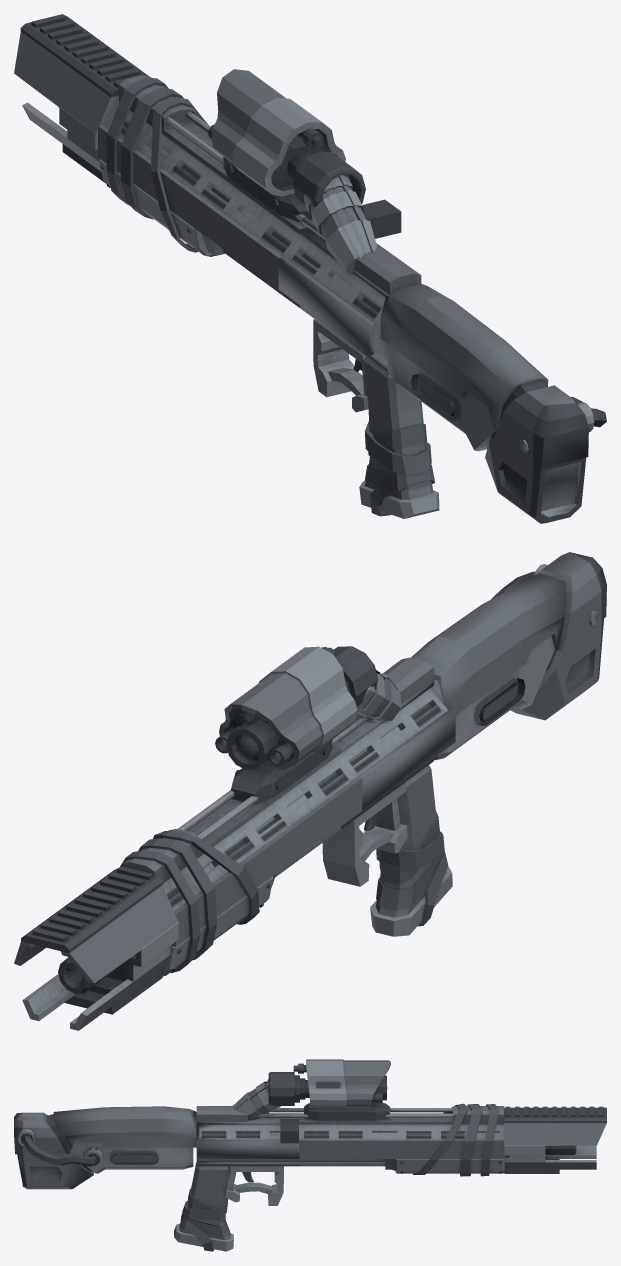
File: beam_pistol.glb
3 renders of one model, top to bottom at view 1: azimuth 30°, elevation 25°; view 2: azimuth 150°, elevation 25°; view 3: azimuth 270°, elevation 25°, orthographic. The views are drawn at different scales.
Visible parts, largest first — view 1: ReloadReceiver, beam_pistol, ReloadGrip, InsertedAmmo, ChargingHandle; view 2: ReloadReceiver, beam_pistol, ReloadGrip, InsertedAmmo; view 3: ReloadReceiver, beam_pistol, ReloadGrip, InsertedAmmo, ChargingHandle.
Part boxes in pixels (bbox=[...]): ReloadReceiver: bbox=[14, 14, 365, 307]; beam_pistol: bbox=[278, 217, 606, 523]; ReloadGrip: bbox=[313, 319, 439, 518]; InsertedAmmo: bbox=[303, 175, 377, 274]; ChargingHandle: bbox=[362, 199, 401, 238]; ReloadReceiver: bbox=[14, 646, 377, 1030]; beam_pistol: bbox=[332, 552, 606, 828]; ReloadGrip: bbox=[322, 765, 452, 936]; InsertedAmmo: bbox=[356, 669, 401, 723]; ReloadReceiver: bbox=[268, 1059, 606, 1176]; beam_pistol: bbox=[14, 1106, 299, 1189]; ReloadGrip: bbox=[174, 1162, 283, 1251]; InsertedAmmo: bbox=[233, 1079, 280, 1120]; ChargingHandle: bbox=[280, 1119, 298, 1143].
Bounding box in the file's own units: 0.1378 × 0.3901 × 1.12.
Materials: 1 (1 with a texture image).
